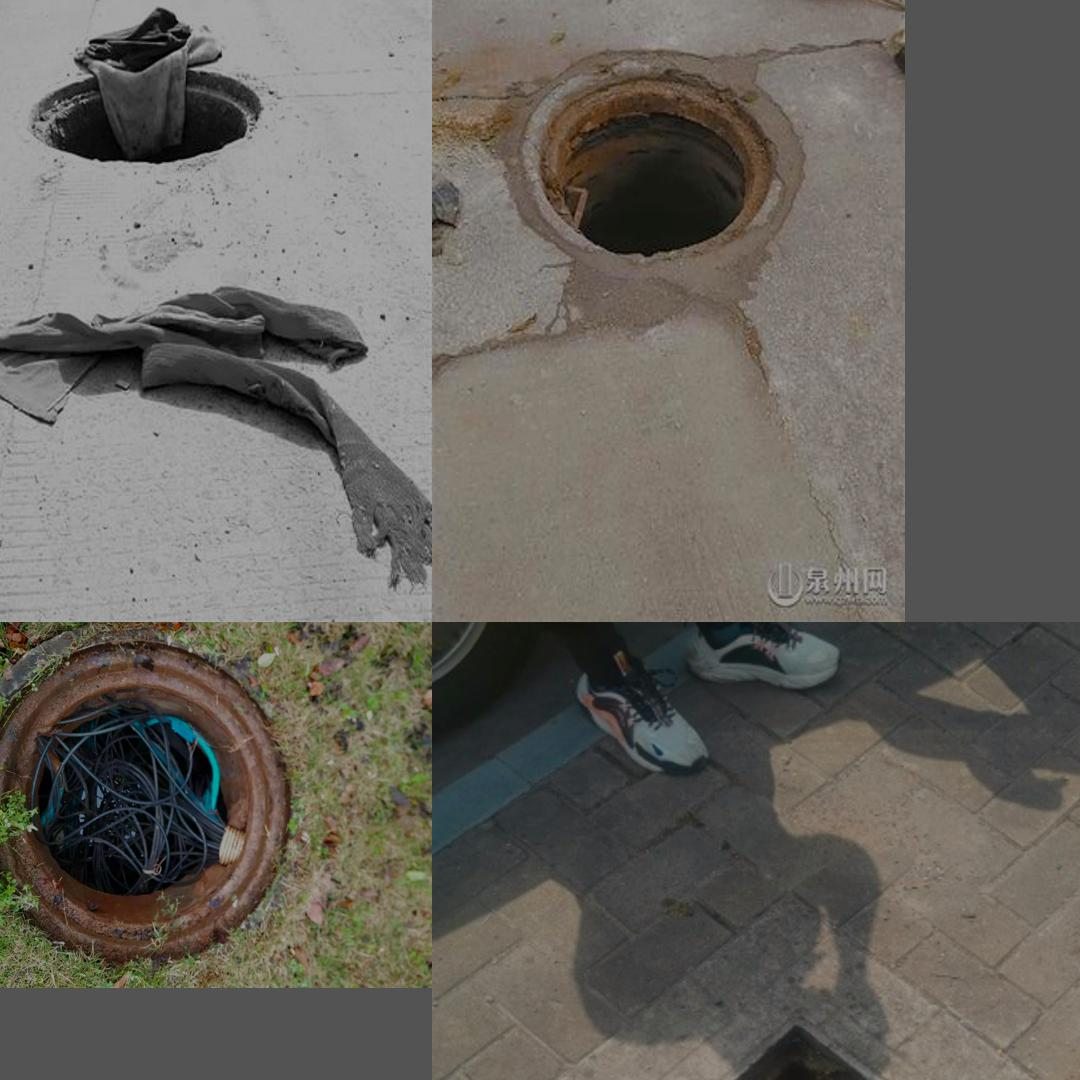lose: (0, 625, 289, 967), (496, 43, 812, 276), (14, 45, 269, 182), (550, 1018, 1045, 1080)
